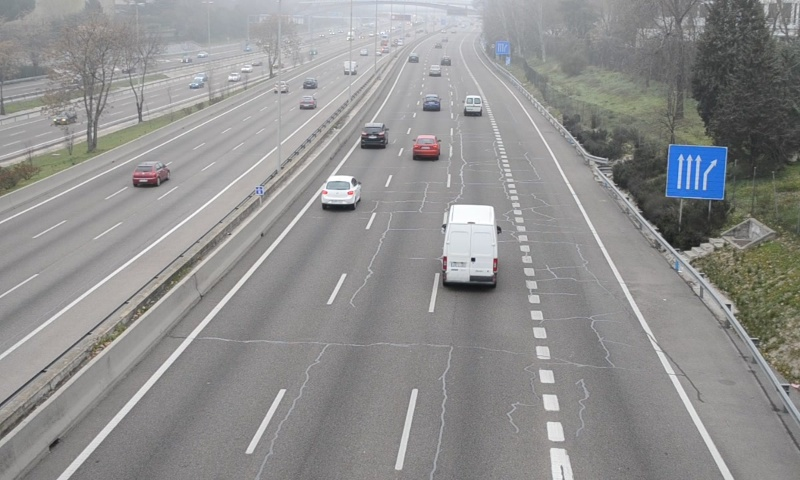car: (320, 176, 362, 206), (360, 121, 388, 149), (412, 134, 441, 160), (422, 94, 441, 112)
van: (443, 205, 498, 286), (463, 94, 484, 118)
